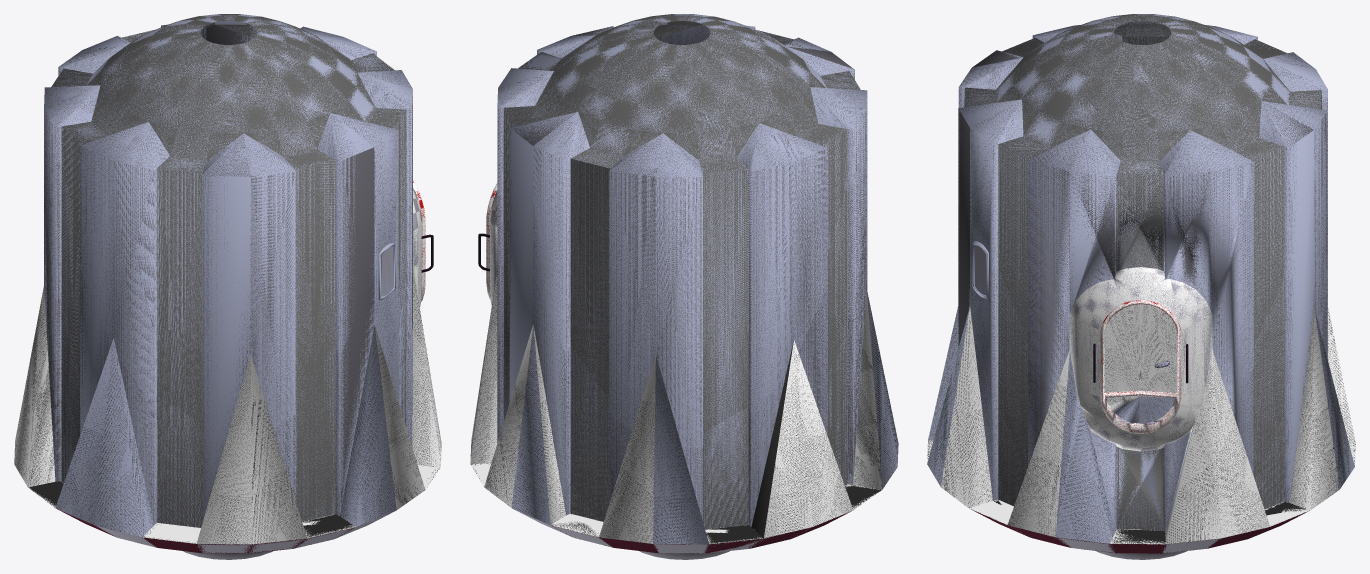
File: capsula.fbx
The picture shows the model from 3 angles, left to right: view 1: azimuth 30°, elevation 25°; view 2: azimuth 150°, elevation 25°; view 3: azimuth 270°, elevation 25°; orthographic projection.
Parts seen in each view (by area): view 1: Group1, base1; view 2: Group1, base1; view 3: Group1, base1.
Part boxes in pixels (bbox=[...]): Group1: bbox=[14, 14, 441, 544]; base1: bbox=[57, 509, 394, 559]; Group1: bbox=[470, 14, 898, 544]; base1: bbox=[512, 508, 851, 559]; Group1: bbox=[927, 14, 1355, 544]; base1: bbox=[969, 508, 1308, 559].
Size of the model in its own units: 237 by 307 by 237.
